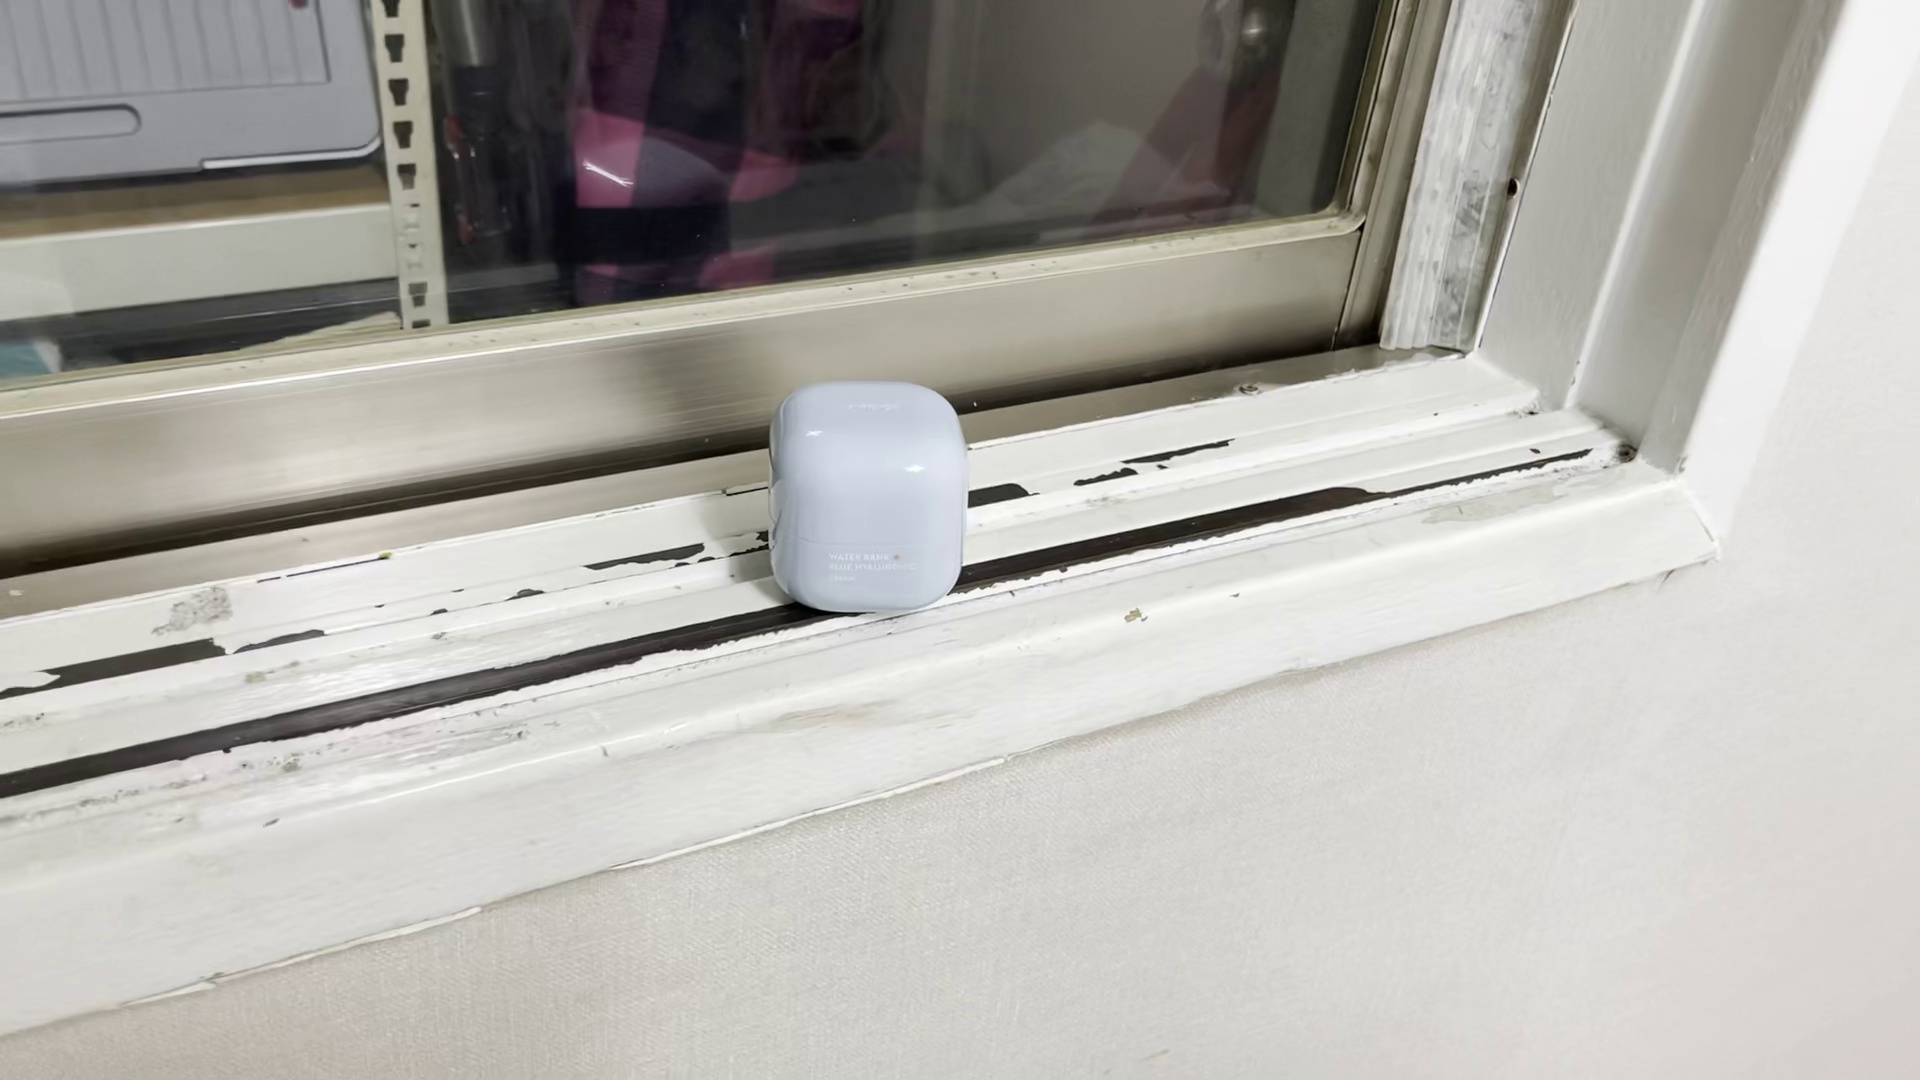cream: (769, 386, 967, 617)
